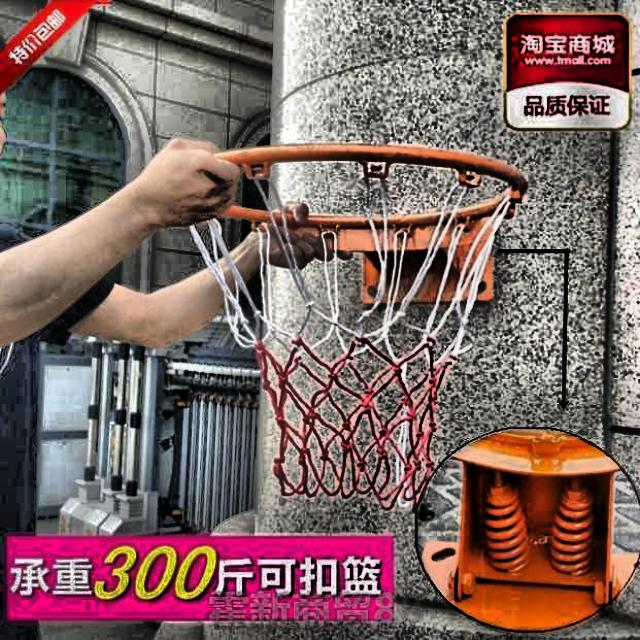rim: (190, 143, 526, 498)
